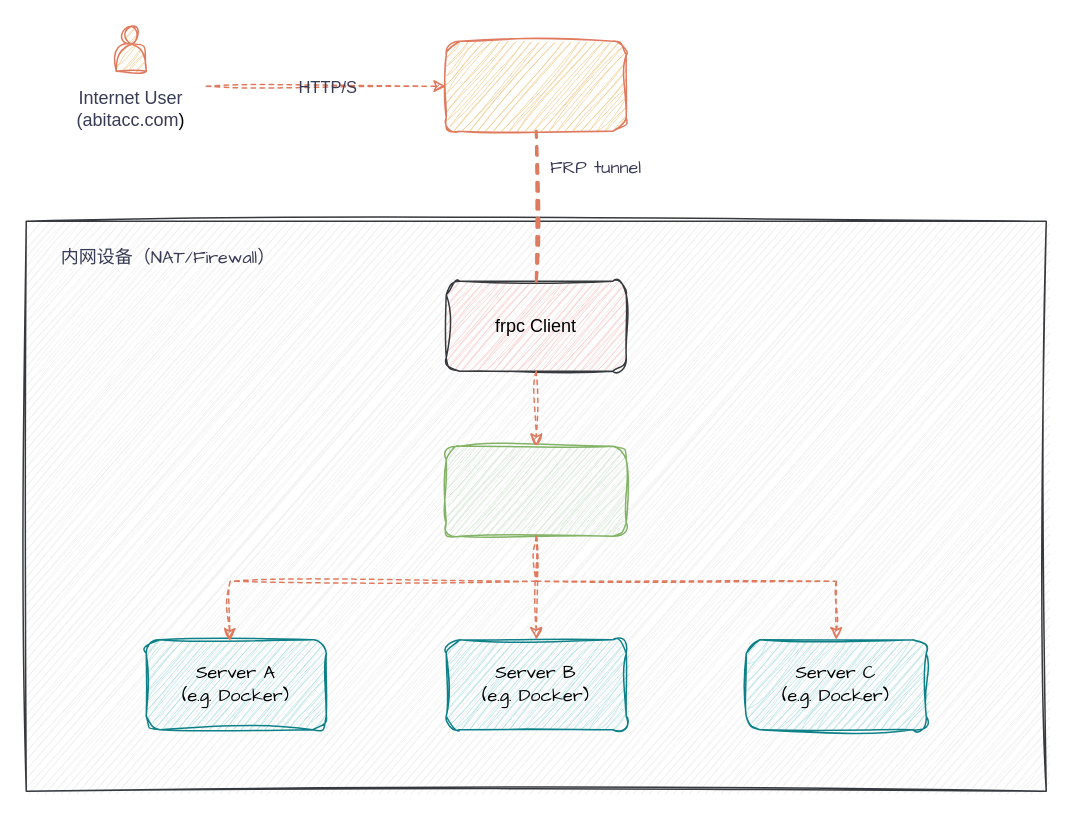
The diagram is 1073 pixels wide and 818 high, and some of its shapes have lost their labels. Here are the shapes that lost their labels. From the top down, the centre of each, then its label:
At point (535, 85): "ECS云服务器 （Public IP） frps".
At point (535, 490): "Caddy server".
